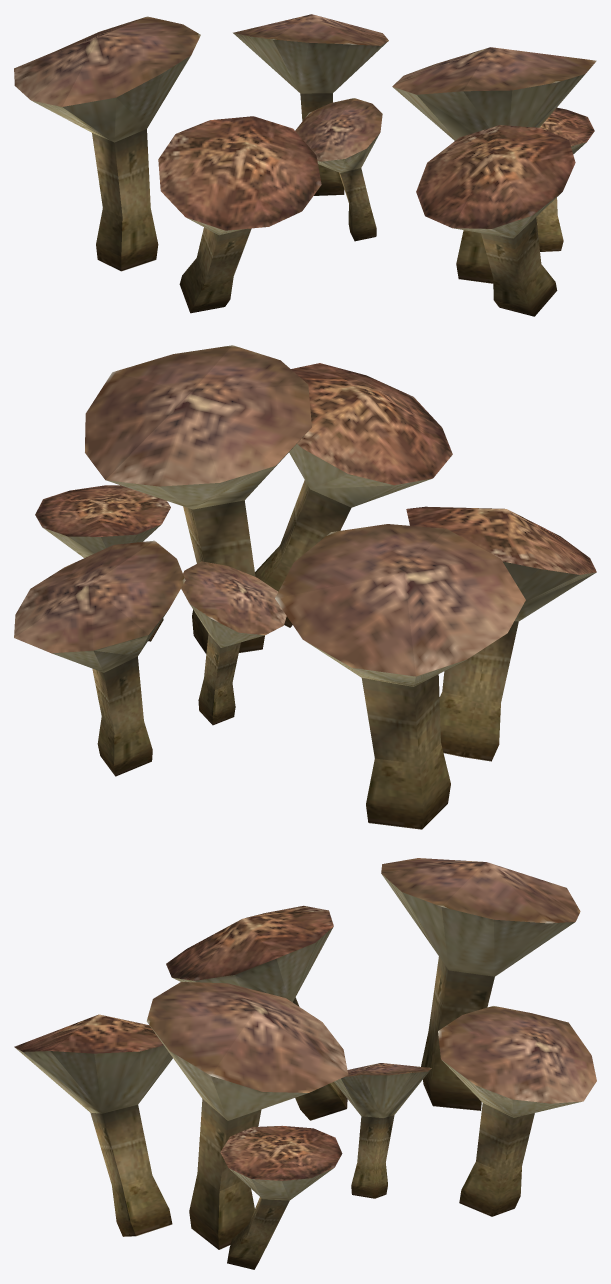
Rendered from bg_anh_foliage_te_d07_sm_old.FBX.
The picture shows the model from 3 angles, top to bottom: view 1: azimuth 30°, elevation 25°; view 2: azimuth 150°, elevation 25°; view 3: azimuth 270°, elevation 25°; orthographic projection. The views are drawn at different scales.
Parts seen in each view (by area): view 1: bg_anh_foliage_te_d07_sm_old; view 2: bg_anh_foliage_te_d07_sm_old; view 3: bg_anh_foliage_te_d07_sm_old.
Part boxes in pixels (<box>): bg_anh_foliage_te_d07_sm_old: <box>14,14,596,316</box>; bg_anh_foliage_te_d07_sm_old: <box>14,345,596,829</box>; bg_anh_foliage_te_d07_sm_old: <box>14,858,596,1269</box>.
Bounding box in the file's own units: 66.62 × 29.78 × 66.8.
